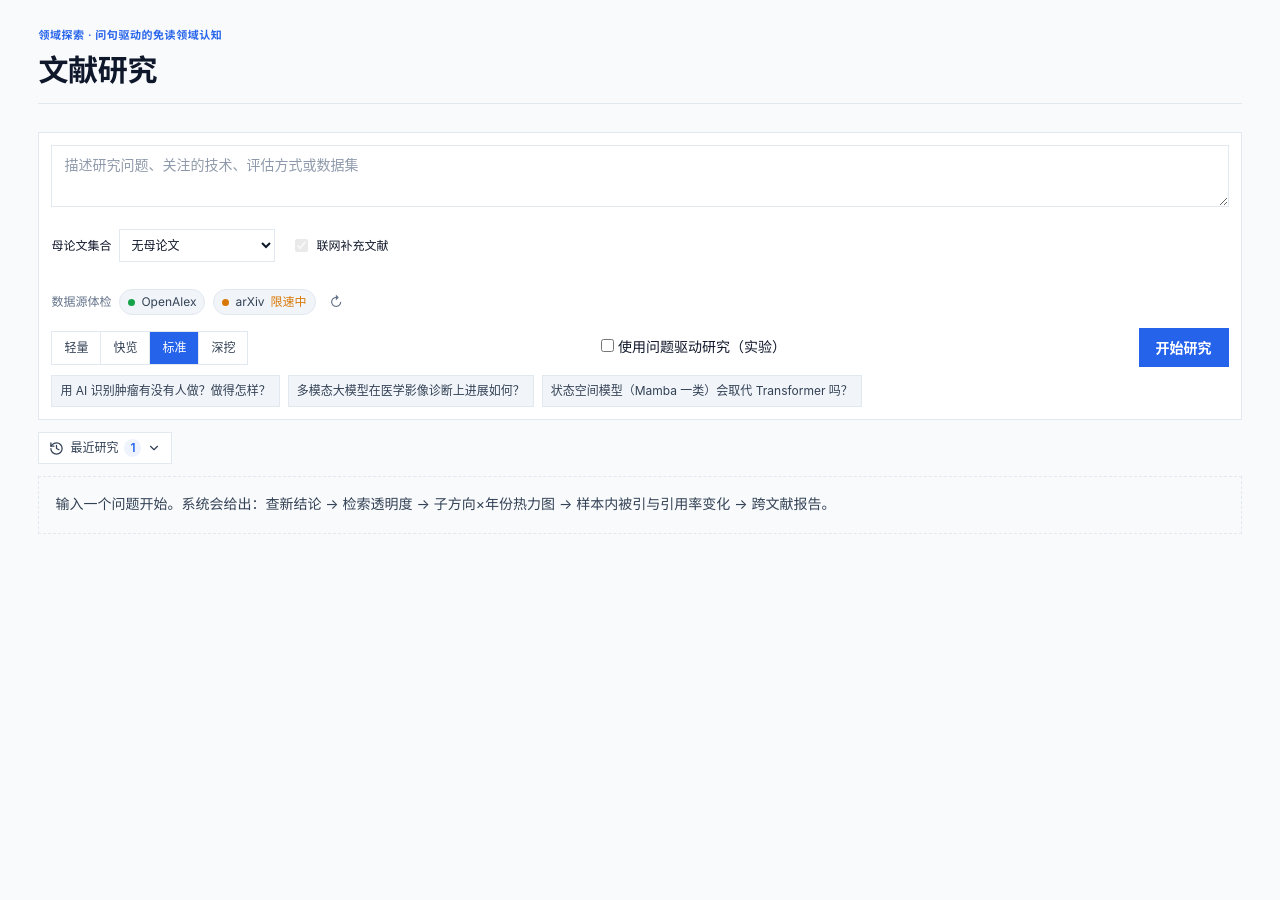
ExplorePage › 近期探索进入独立详情，刷新读取资料和持久化对话
The image size is (1280, 900).
Note: 历史入口为抽屉式二级菜单：先展开再断言链接
Click the button "最近研究 1" at (105, 448), box [38,432,172,464]
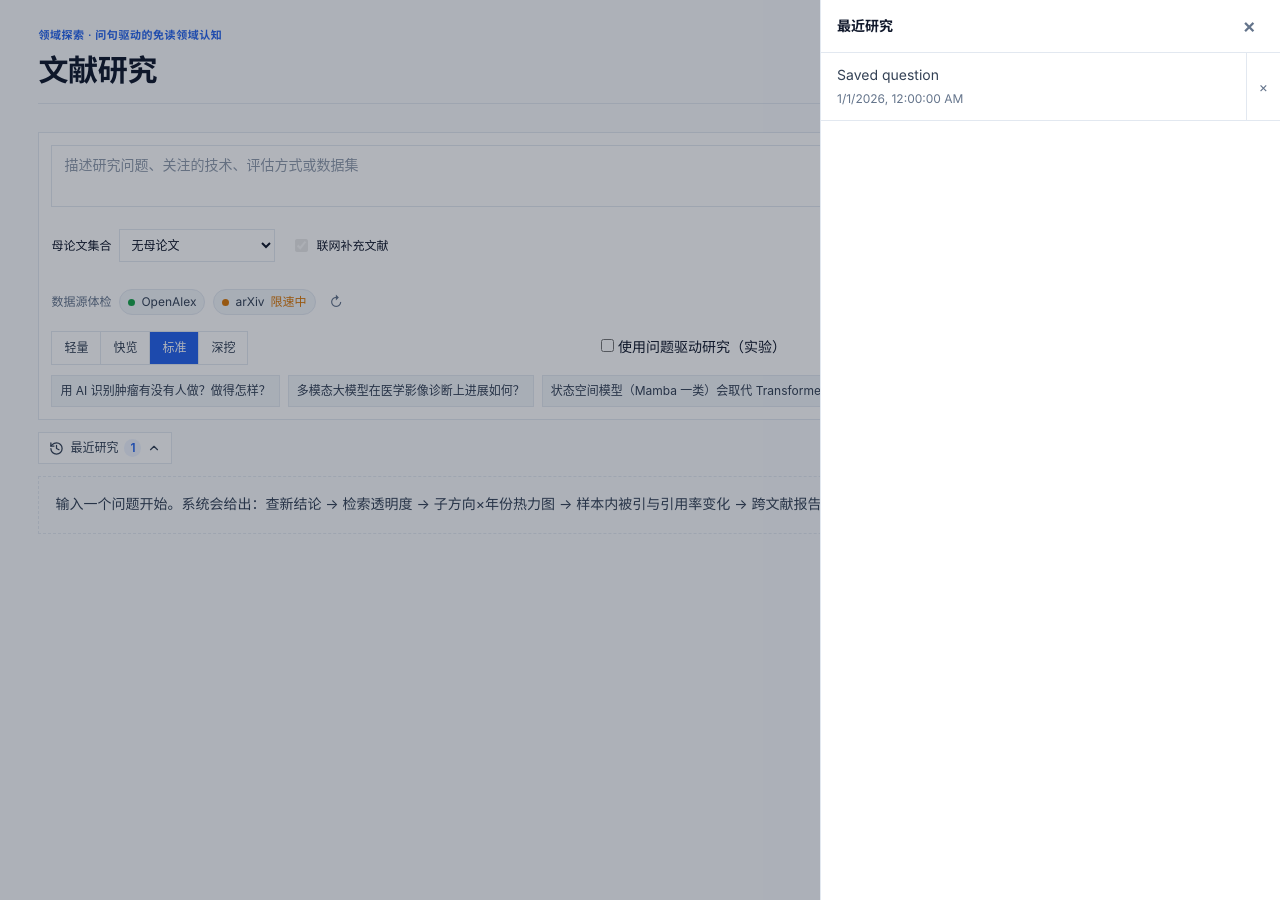
Click the link "Saved question 1/1/2026, 12:00:00 AM" at (900, 86), box [837,67,963,106]
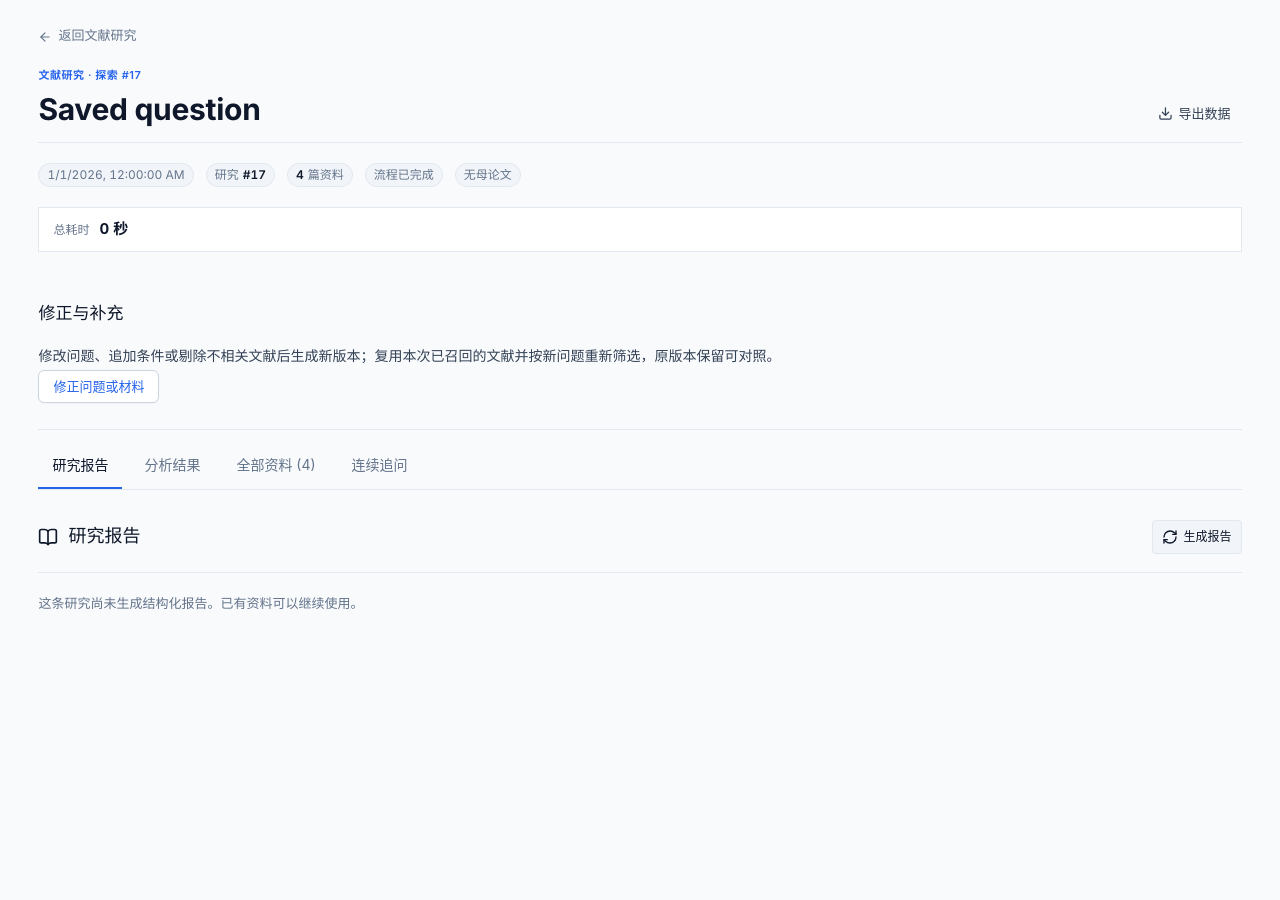
Result: the heading "Saved question" is shown at [38,92,260,128]
Click the tab "连续追问" at (380, 465), box [338,442,422,488]
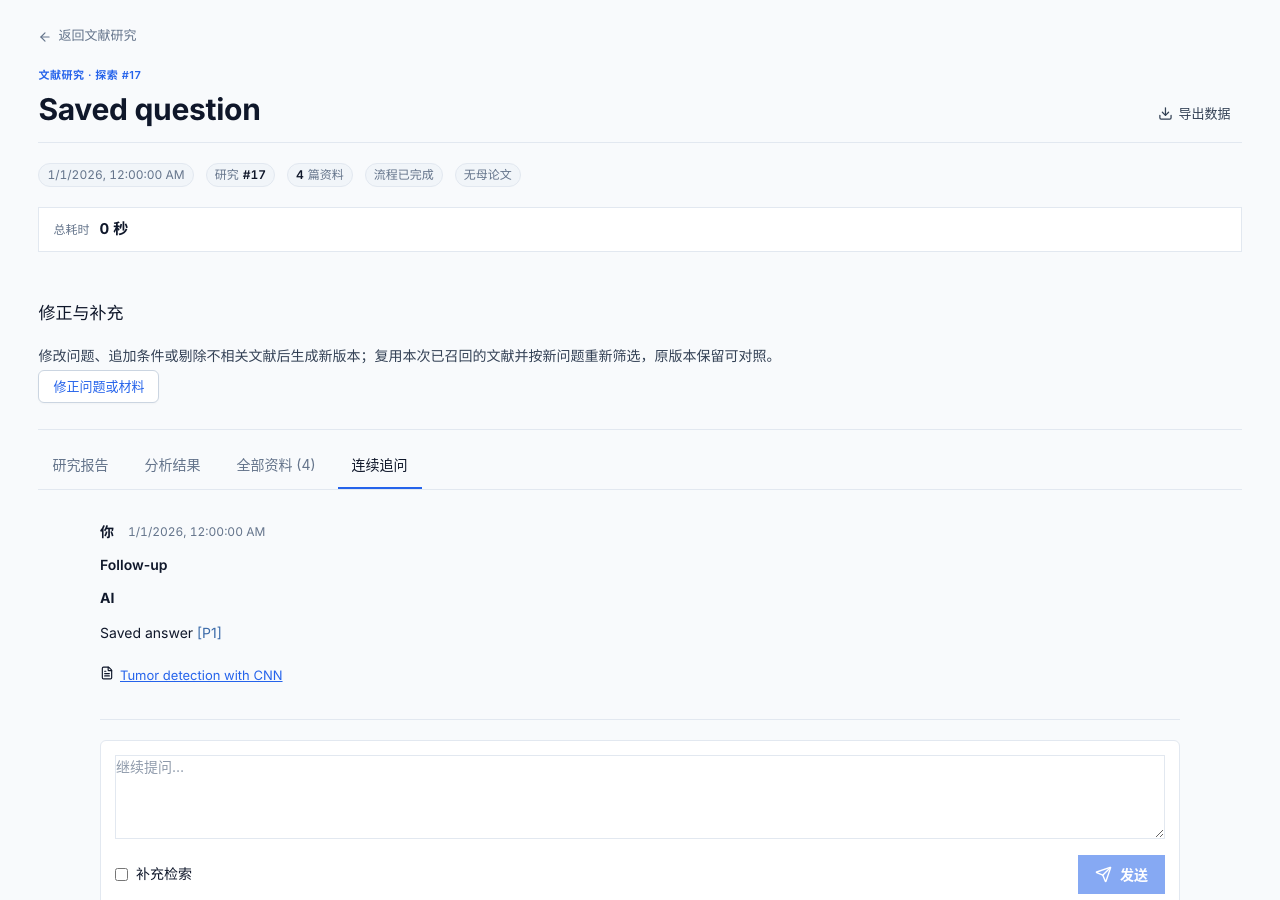
Expected: the button with placeholder "用 AI 识别肿瘤" is not shown
Result: the text "Follow-up" is shown at [100,556,168,574]
